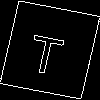T: (25, 25, 68, 77)
